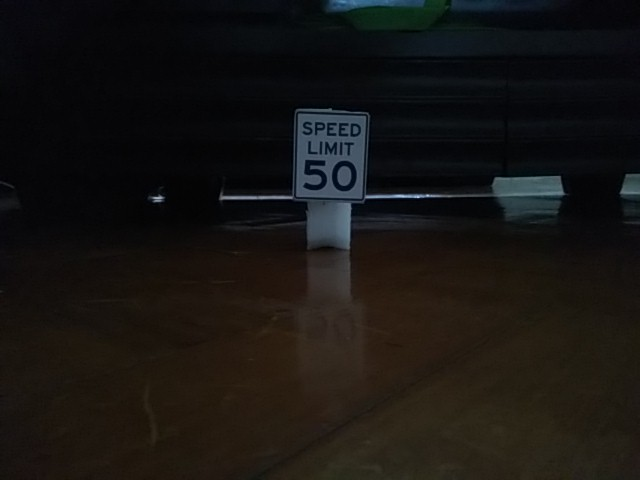Speed Limit 50: (295, 109, 369, 202)
